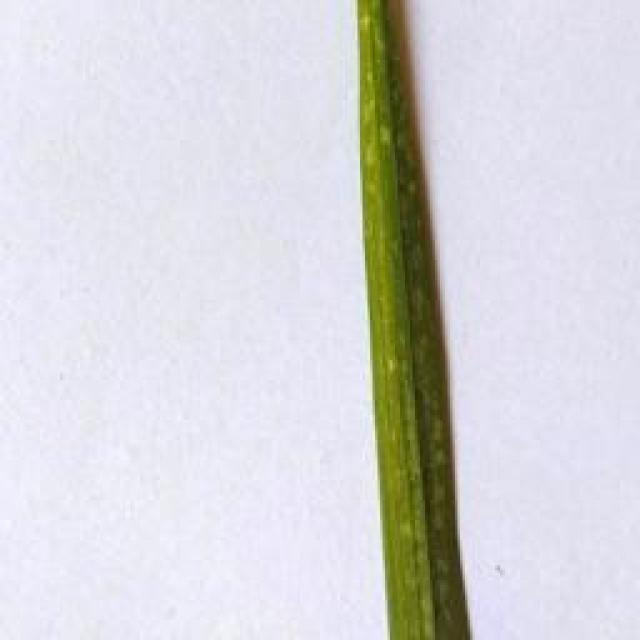Healthy-Plant: (344, 0, 484, 640)
